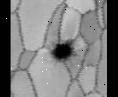good_void: (48, 34, 80, 63)
